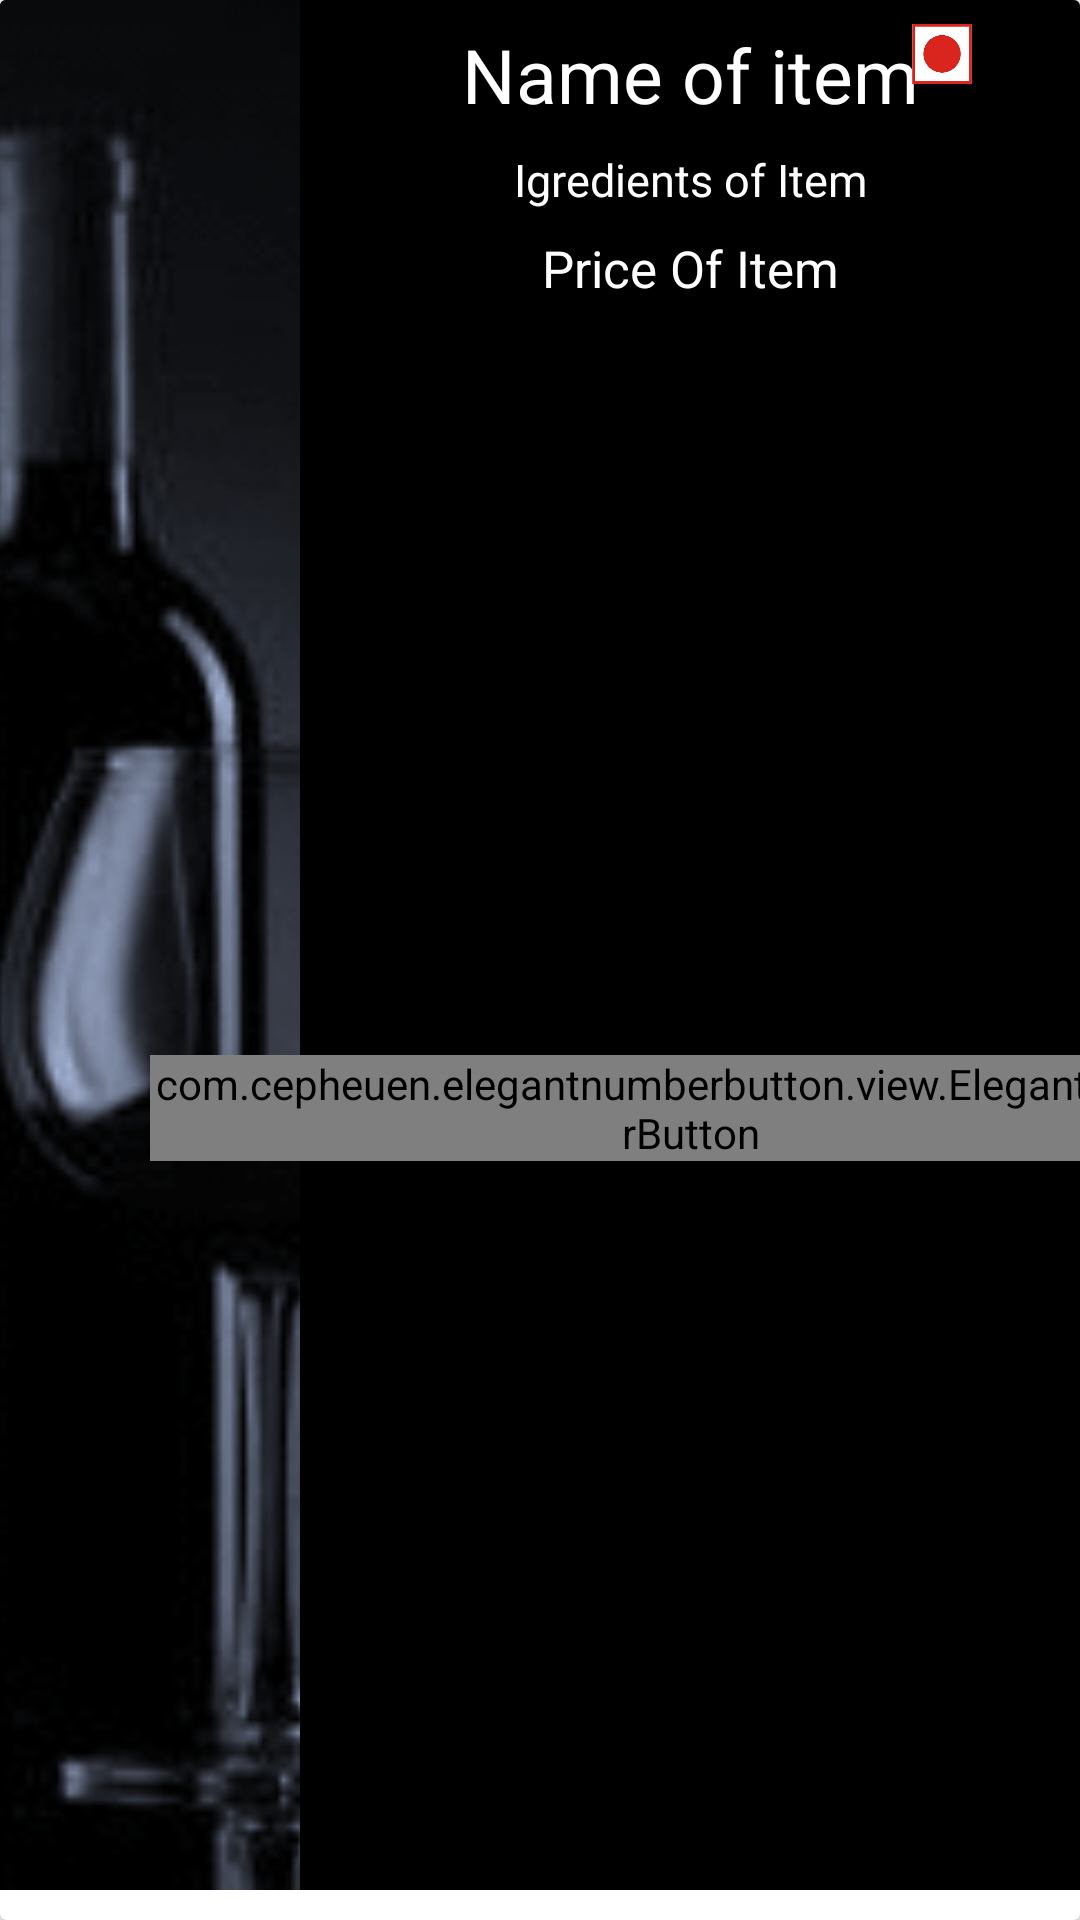

Where icons sit on this 1080 x 1920 app screen, as (x1, y1, x2, y2):
nonveg: (912, 24, 972, 84)
